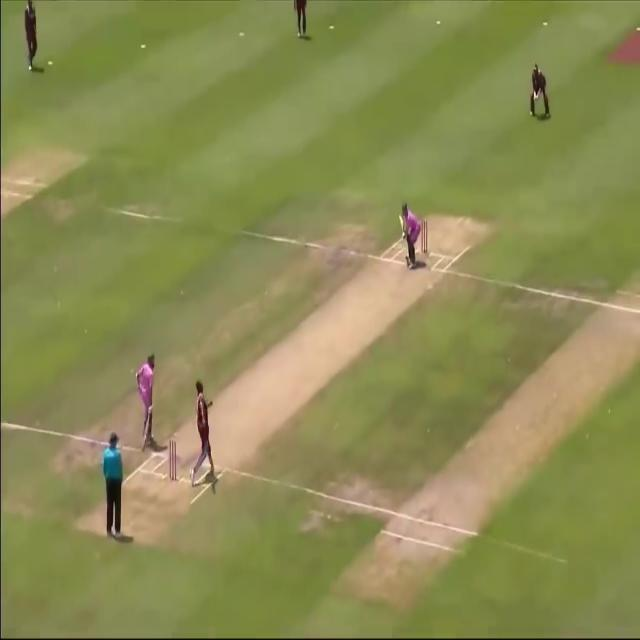Ball: (128, 351, 168, 451), (395, 199, 426, 269)
Fielder: (186, 374, 228, 492), (17, 0, 41, 72), (526, 63, 551, 122), (289, 0, 311, 38)
Umpire: (93, 428, 136, 544)
